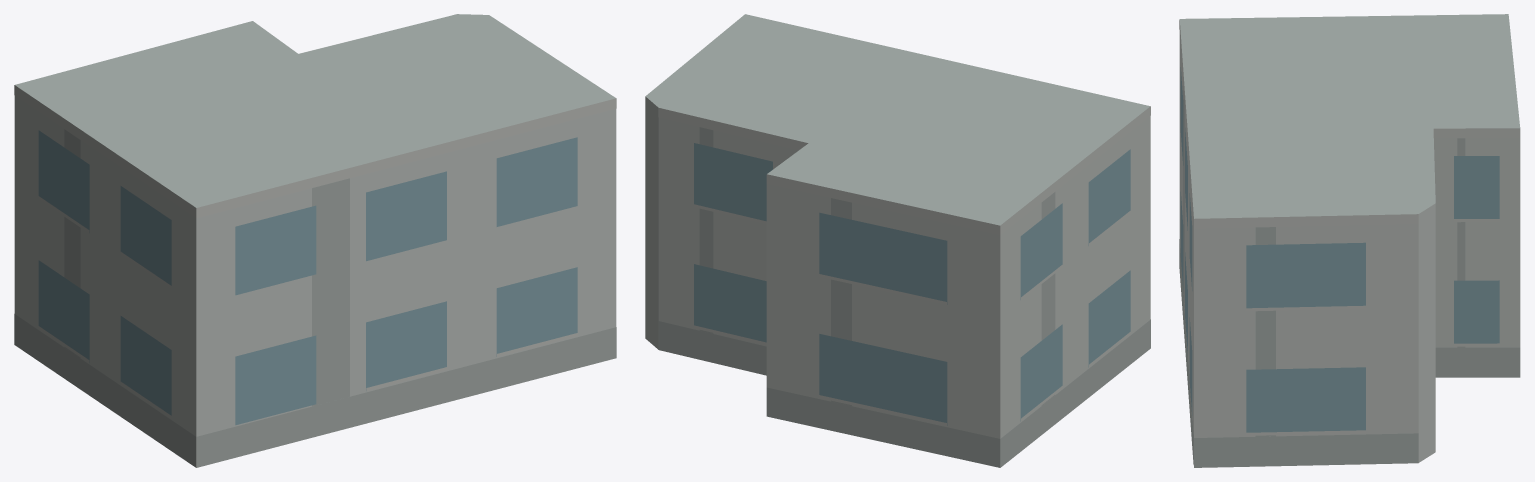
Rendered from survey-upis-32636509.glb.
The picture shows the model from 3 angles, left to right: view 1: azimuth 30°, elevation 25°; view 2: azimuth 150°, elevation 25°; view 3: azimuth 270°, elevation 25°; orthographic projection. The views are drawn at different scales.
Parts seen in each view (by area): view 1: survey-upis-32636509.tmp; view 2: survey-upis-32636509.tmp; view 3: survey-upis-32636509.tmp.
Part boxes in pixels (bbox=[...]): survey-upis-32636509.tmp: bbox=[14, 14, 616, 467]; survey-upis-32636509.tmp: bbox=[645, 14, 1150, 467]; survey-upis-32636509.tmp: bbox=[1179, 14, 1520, 467].
Bounding box in the file's own units: 10.77 × 6.1 × 7.57.
